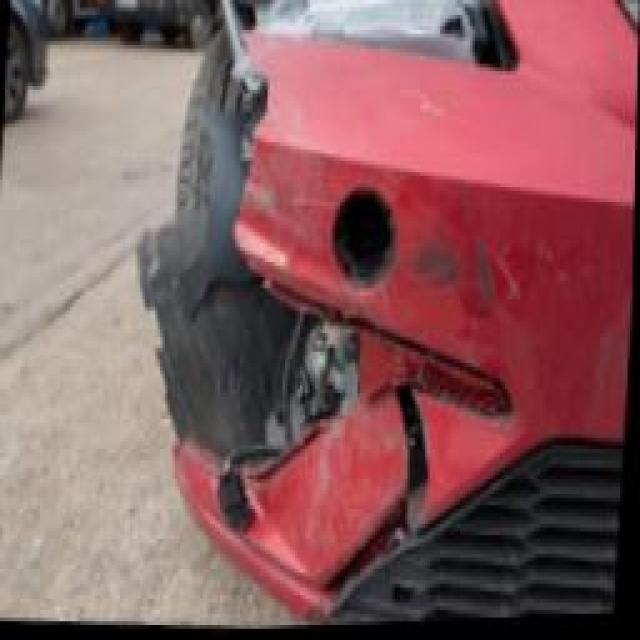Bumper: (146, 36, 637, 627)
Light: (241, 0, 525, 72)
